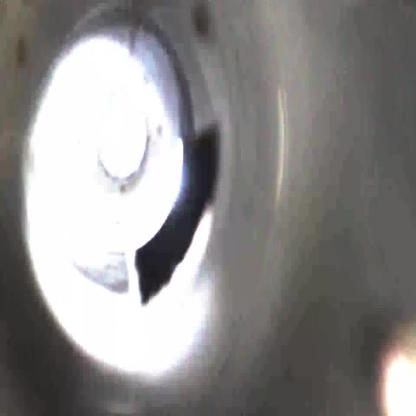Crack2: (129, 119, 221, 314)
